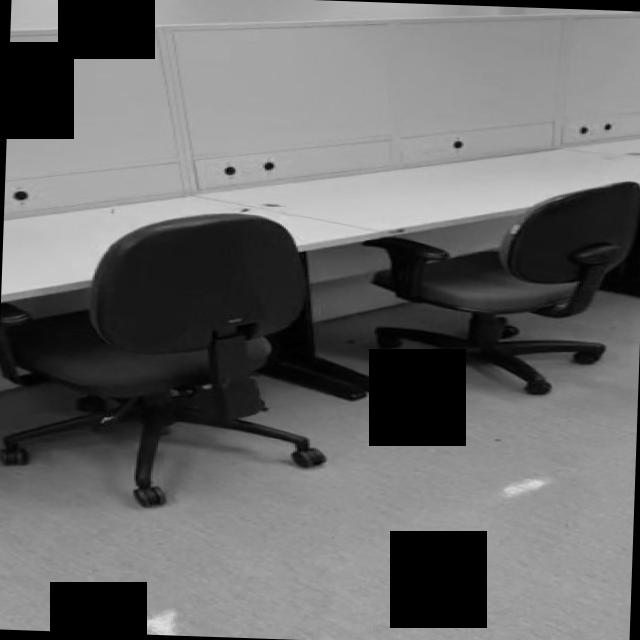cadeira-azul: (0, 204, 331, 512)
